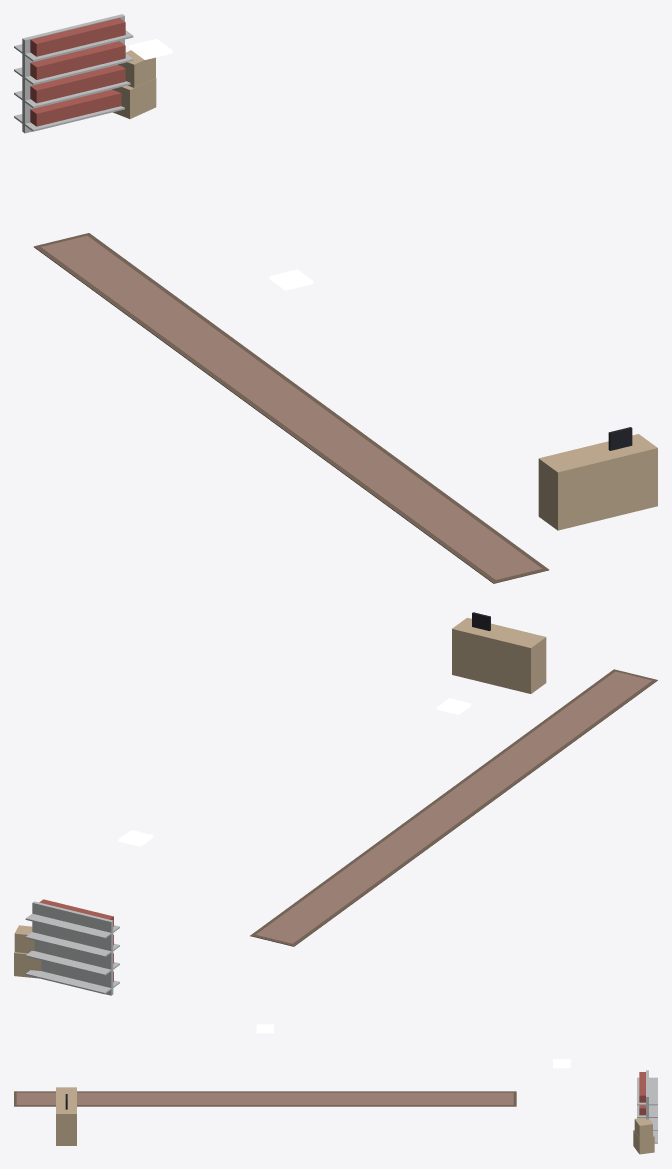
The model's file is fine-s0.glb.
The picture shows the model from 3 angles, top to bottom: view 1: azimuth 30°, elevation 25°; view 2: azimuth 150°, elevation 25°; view 3: azimuth 270°, elevation 25°; orthographic projection. The views are drawn at different scales.
Parts seen in each view (by area): view 1: soft-s0, shelving.000, shop-counter.000, cardboard-box.000; view 2: soft-s0, shelving.000, shop-counter.000, cardboard-box.000; view 3: soft-s0, shop-counter.000, shelving.000, cardboard-box.000.
Boxes of the visible parts, <box> form: soft-s0: <box>33,233,548,583</box>; shelving.000: <box>14,14,133,133</box>; shop-counter.000: <box>538,427,657,530</box>; cardboard-box.000: <box>112,50,156,118</box>; soft-s0: <box>250,669,657,946</box>; shelving.000: <box>25,899,119,995</box>; shop-counter.000: <box>452,612,546,693</box>; cardboard-box.000: <box>14,925,41,978</box>; soft-s0: <box>14,1091,516,1106</box>; shop-counter.000: <box>56,1087,76,1145</box>; shelving.000: <box>637,1070,657,1143</box>; cardboard-box.000: <box>633,1118,654,1154</box>.
Size of the model in its own units: 4.23 by 2.24 by 18.35.
